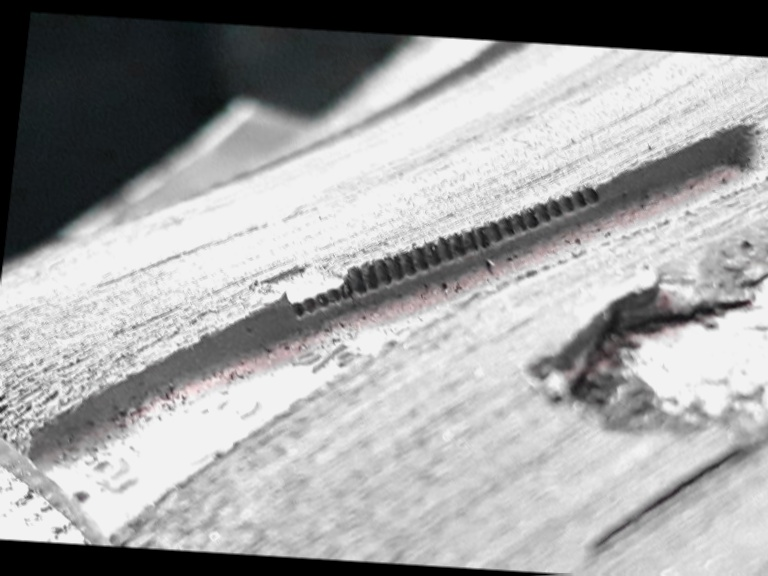temoin:0: (242, 217, 410, 338)
